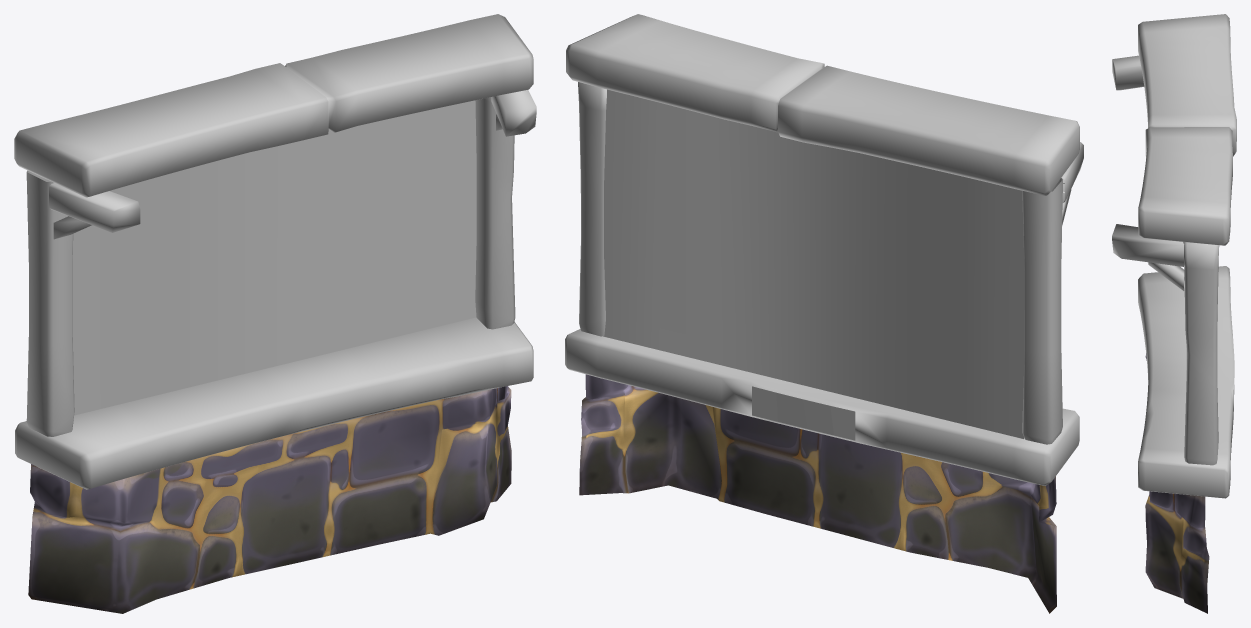
Rendered from U_Wall_LongB_03.fbx.
The picture shows the model from 3 angles, left to right: view 1: azimuth 30°, elevation 25°; view 2: azimuth 150°, elevation 25°; view 3: azimuth 270°, elevation 25°; orthographic projection. The views are drawn at different scales.
Visible parts, largest first — view 1: U_Wall_LongB_03; view 2: U_Wall_LongB_03; view 3: U_Wall_LongB_03.
Part boxes in pixels (x1,y1,x2,y2): U_Wall_LongB_03: (14,14,536,613); U_Wall_LongB_03: (565,14,1083,613); U_Wall_LongB_03: (1112,14,1236,613).
Size of the model in its own units: 4612 by 4214 by 1186.
